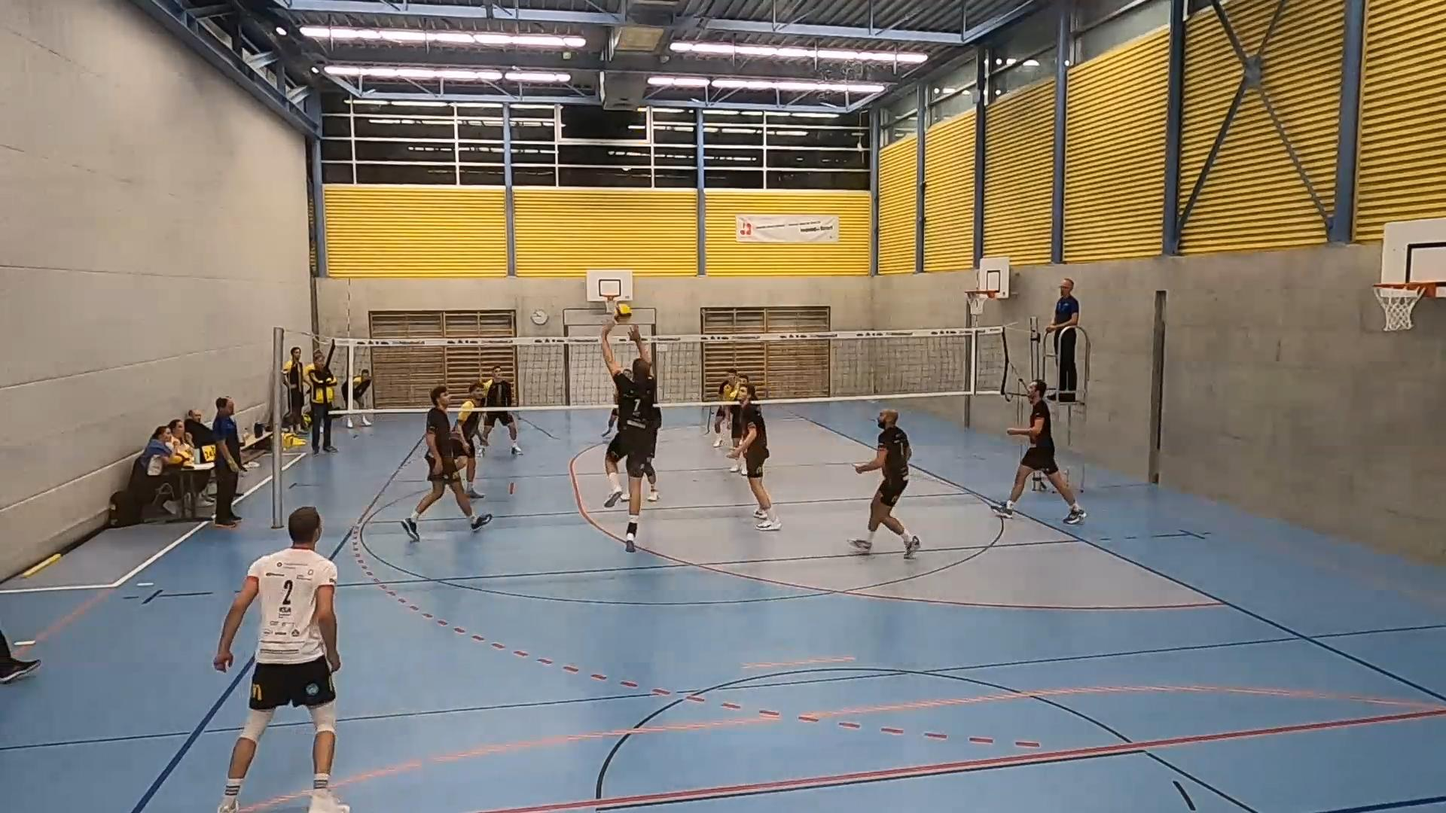Player: (214, 507, 348, 812), (401, 385, 492, 541), (993, 380, 1086, 524), (850, 410, 920, 558), (728, 384, 781, 531), (480, 365, 521, 455), (456, 382, 484, 498), (712, 368, 737, 448), (643, 401, 661, 501), (729, 373, 750, 449), (602, 406, 618, 437)
Set: (598, 328, 661, 556)
ball: (616, 306, 635, 319)
